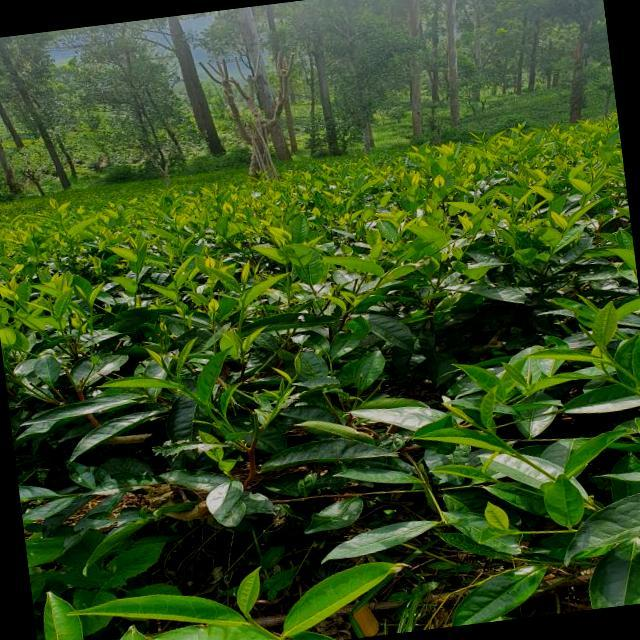Stem: (516, 453, 527, 463), (615, 363, 625, 372), (207, 409, 215, 418), (241, 300, 245, 311), (613, 379, 621, 384), (90, 308, 93, 316), (136, 273, 139, 279)
